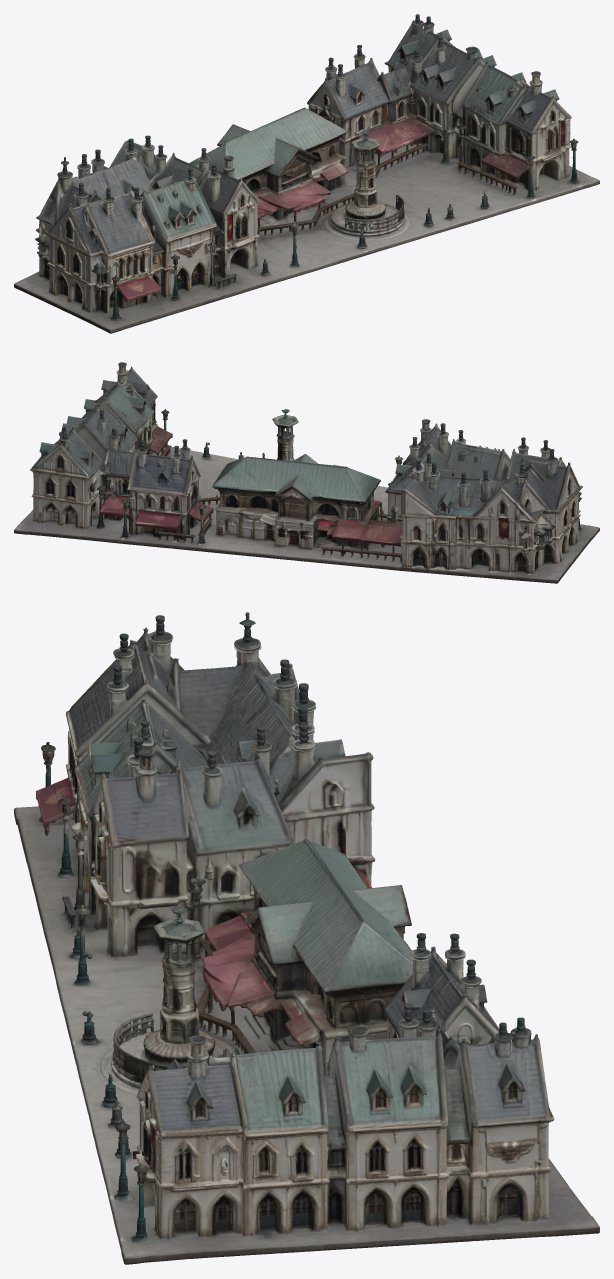
The model's file is medieval_town.glb.
The picture shows the model from 3 angles, top to bottom: view 1: azimuth 30°, elevation 25°; view 2: azimuth 150°, elevation 25°; view 3: azimuth 270°, elevation 25°; orthographic projection. The views are drawn at different scales.
Bounding box in the file's own units: 0.9807 × 0.213 × 0.5145.
Materials: 1 (1 with a texture image).
